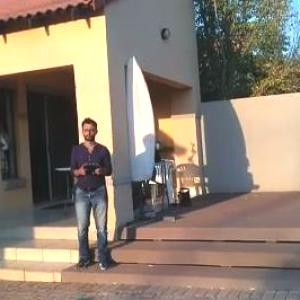follow: (68, 112, 122, 273)
